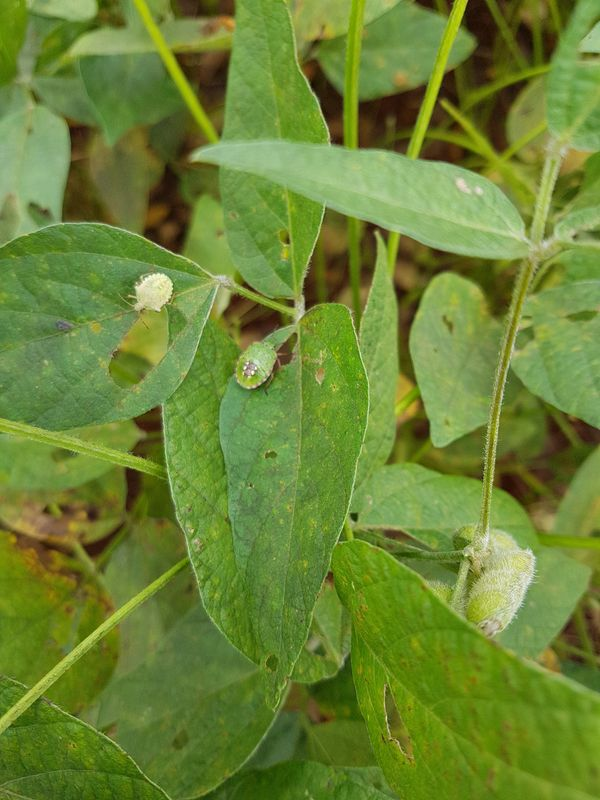Euschistus_heros_ninfa: (106, 258, 184, 333)
Nezara_viridula_ninfa: (220, 329, 292, 403)
